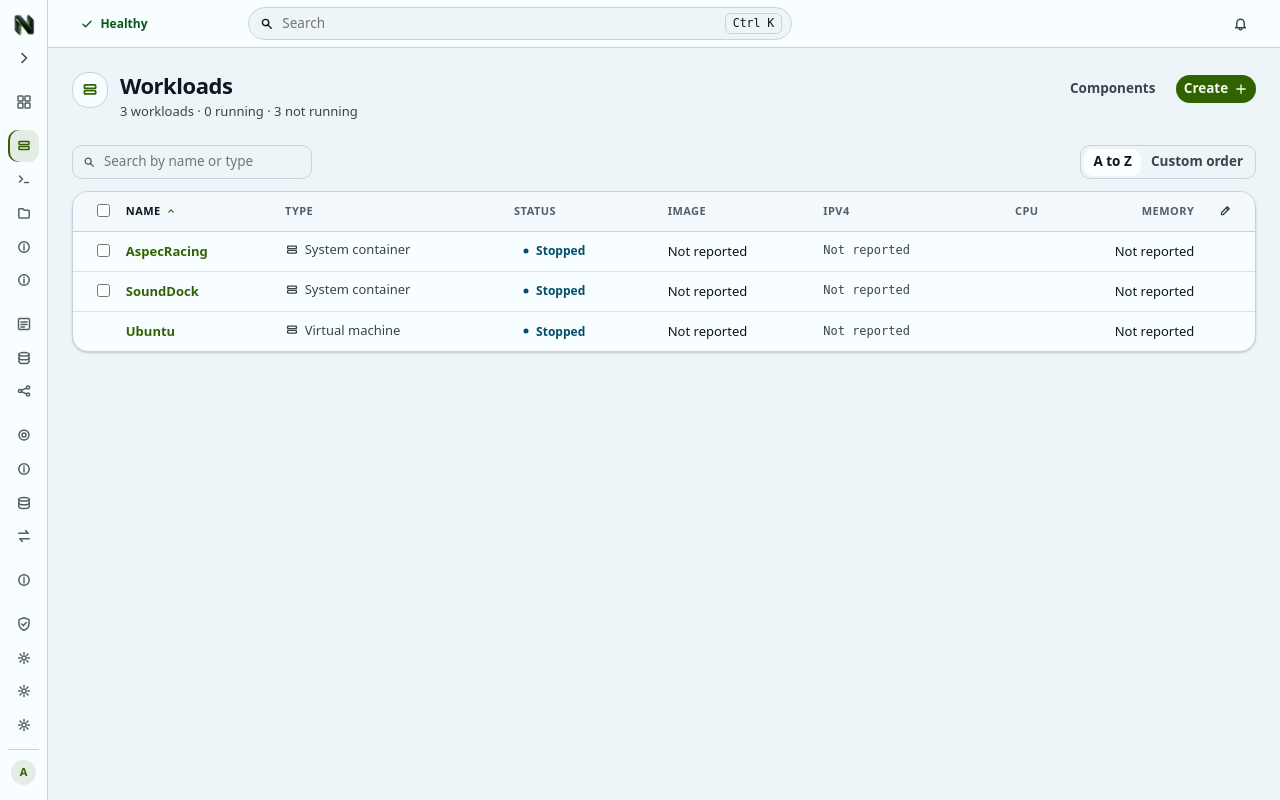
Test: Workloads bulk delete › selects all visible containers from one checkbox
Expected: the heading "Workloads" is shown, [120,70,233,100]
Expected: the link "AspecRacing" is shown, [126,242,208,260]
Click the checkbox named "Select all": (104, 211) [97,204,110,218]
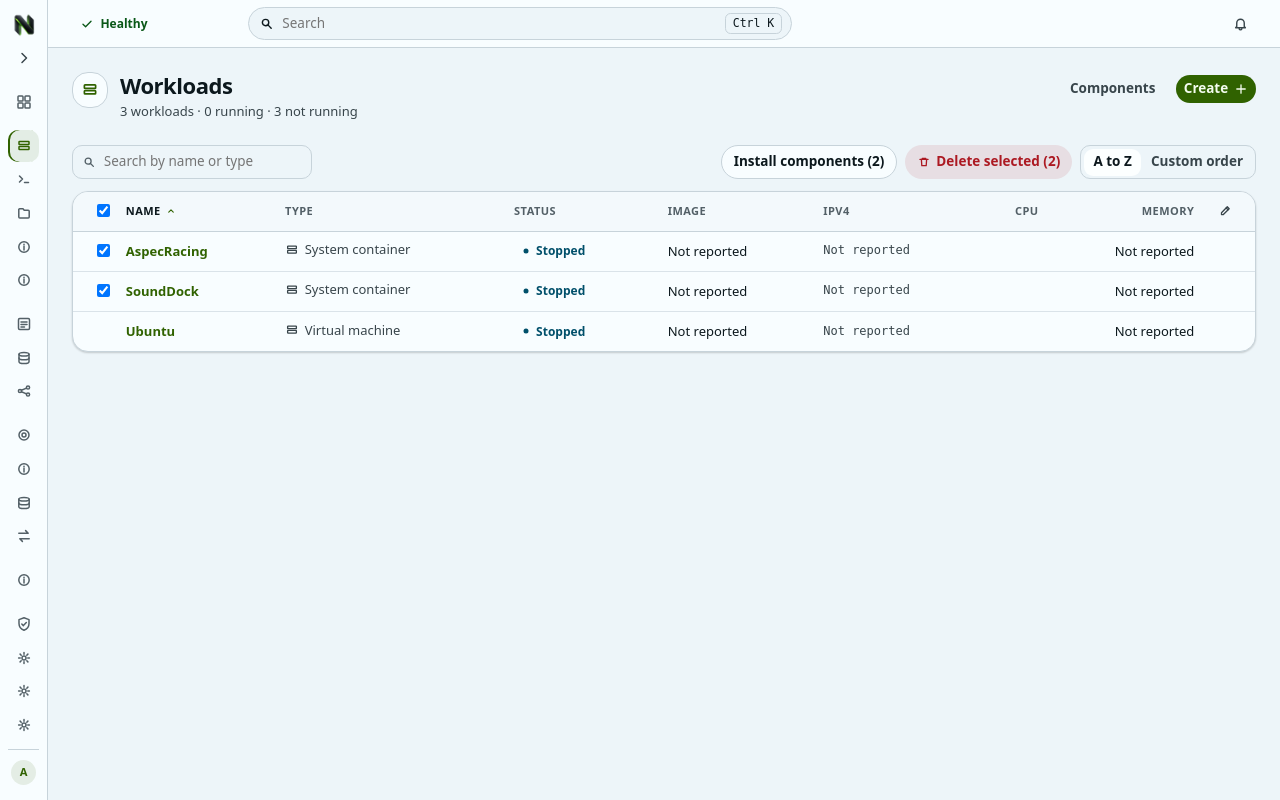
Result: the checkbox named "Select AspecRacing" is checked at [97,244,110,257]
Result: the checkbox named "Select SoundDock" is checked at [97,284,110,297]
Click the button "Delete selected (2)": (988, 162) [904,145,1072,179]
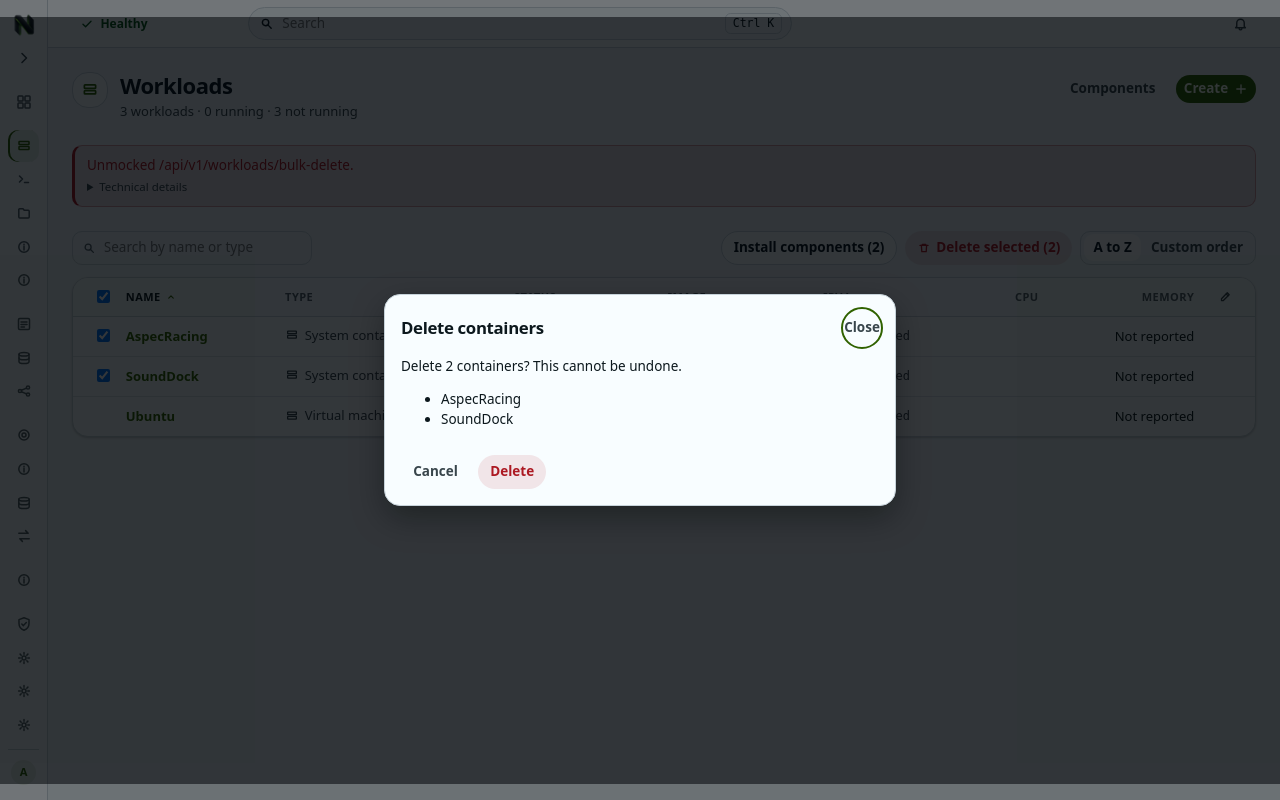
Result: the text "Delete 2 containers? This cannot be undone." is shown at [401,357,682,375]
